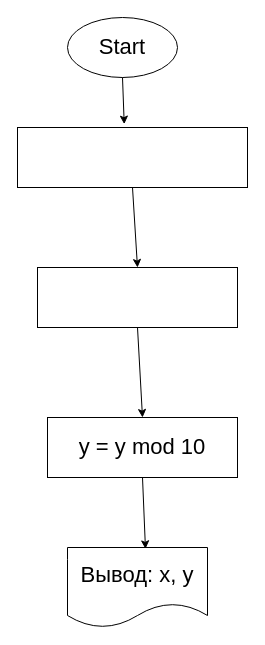
The diagram is 265 pixels wide and 645 high, and some of its shapes have lost their labels. The shapes that lost their labels are listed below. From the top down, each one's centre as x and y in pixels, then its label:
At point 132,157: "x = random (100, 999)".
At point 137,297: "y = x div 10".
